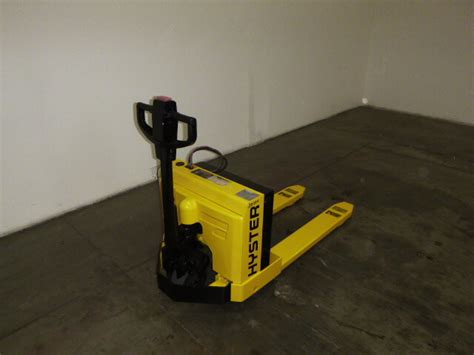Pallet Jack: (133, 95, 355, 306)
